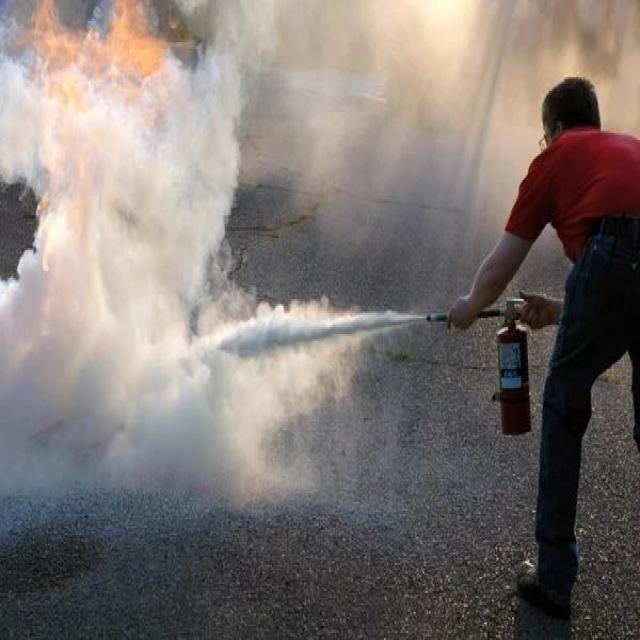fire_extinguisher: (417, 294, 537, 444)
